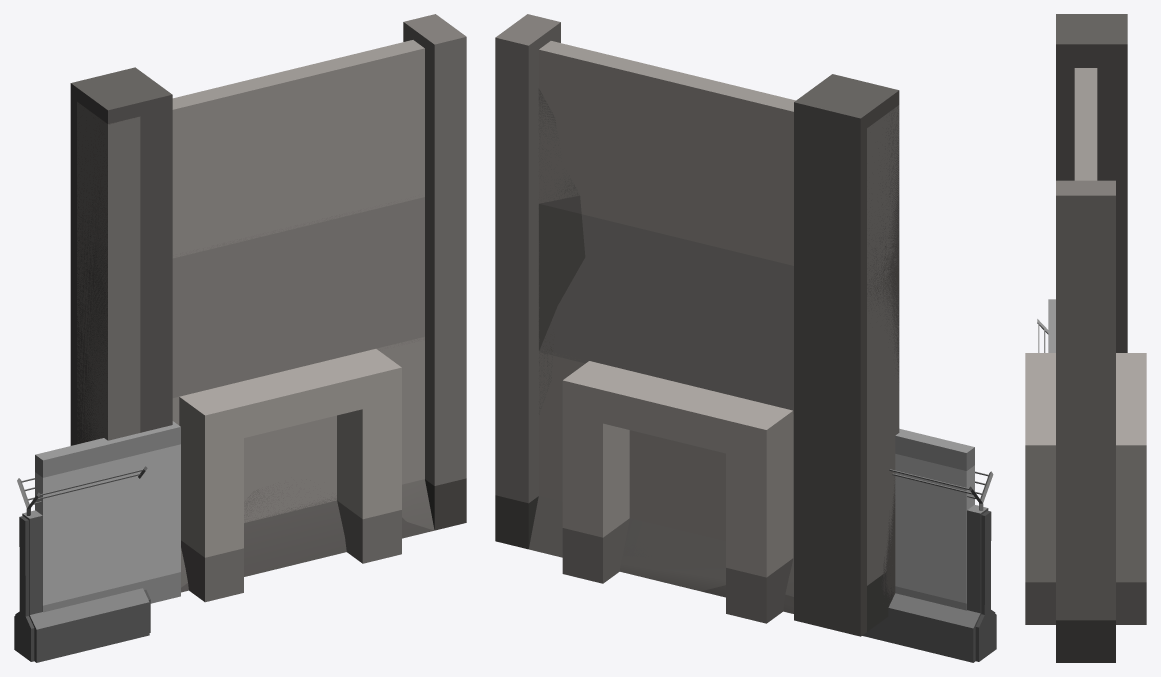
File: Assets.gltf
The picture shows the model from 3 angles, left to right: view 1: azimuth 30°, elevation 25°; view 2: azimuth 150°, elevation 25°; view 3: azimuth 270°, elevation 25°; orthographic projection. The views are drawn at different scales.
Visible parts, largest first — view 1: SA_Prop_Citywall_Gate_01, SA_Prop_Citywall_01, SA_Prop_Citywall_02, SA_Props_Citywall_Gateblock, SA_Prop_Citywall_Corner_01, SM_Prop_Wall_02, SA_Prop_Citywall_03; view 2: SA_Prop_Citywall_02, SA_Prop_Citywall_01, SA_Prop_Citywall_Gate_01, SA_Prop_Citywall_03, SA_Prop_Citywall_Corner_01, SA_Props_Citywall_Gateblock, SM_Prop_Wall_02; view 3: SA_Prop_Citywall_Gate_01, SA_Prop_Citywall_01, SA_Prop_Citywall_02, SA_Prop_Citywall_Corner_01, SA_Props_Citywall_Gateblock.
Part boxes in pixels (x1,y1,x2,y2): SA_Prop_Citywall_Gate_01: (77, 24, 466, 602); SA_Prop_Citywall_01: (77, 22, 466, 530); SA_Prop_Citywall_02: (77, 14, 466, 592); SA_Props_Citywall_Gateblock: (35, 421, 180, 612); SA_Prop_Citywall_Corner_01: (70, 67, 172, 445); SM_Prop_Wall_02: (14, 466, 150, 662); SA_Prop_Citywall_03: (244, 22, 424, 522); SA_Prop_Citywall_02: (495, 14, 899, 630); SA_Prop_Citywall_01: (495, 22, 899, 631); SA_Prop_Citywall_Gate_01: (495, 22, 899, 623); SA_Prop_Citywall_03: (528, 46, 793, 540); SA_Prop_Citywall_Corner_01: (794, 74, 899, 636); SA_Props_Citywall_Gateblock: (895, 428, 974, 610); SM_Prop_Wall_02: (862, 469, 996, 662); SA_Prop_Citywall_Gate_01: (1025, 68, 1146, 624); SA_Prop_Citywall_01: (1056, 195, 1115, 662); SA_Prop_Citywall_02: (1056, 180, 1115, 662); SA_Prop_Citywall_Corner_01: (1056, 14, 1127, 352); SA_Props_Citywall_Gateblock: (1048, 299, 1055, 352).
Bounding box in the file's own units: 0.1857 × 0.2095 × 0.0457.
7 materials, 7 textured.
